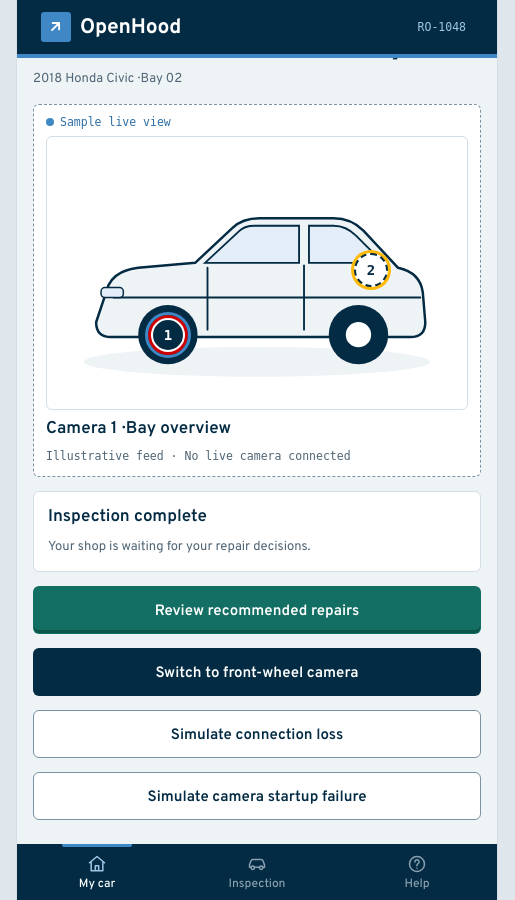
Test: a camera that cannot start immediately offers recovery and stores an outage
(page scrolled)
Click the button "Simulate camera startup failure" at [257, 796], box [33,772,481,820]
(page scrolled)
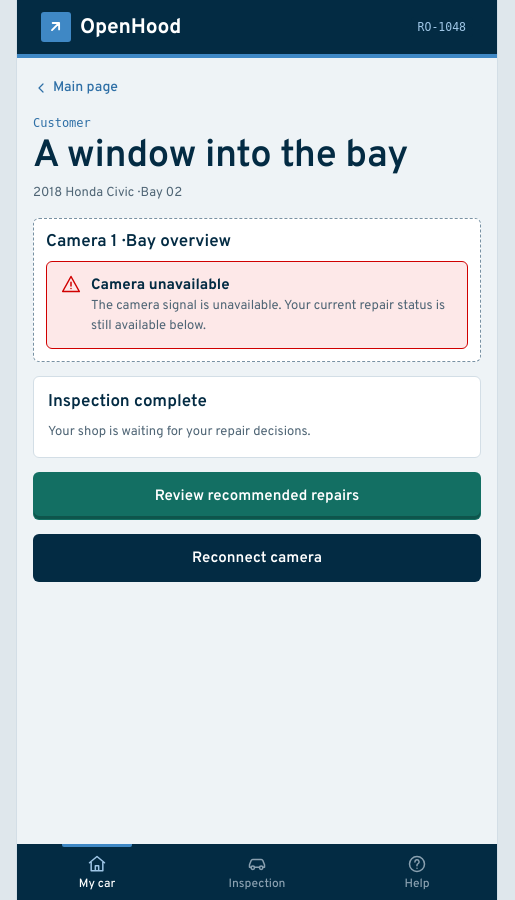
Result: the message shows "Camera unavailable" at [91,276,230,295]
Result: the button "Reconnect camera" is shown at [33,534,481,582]
